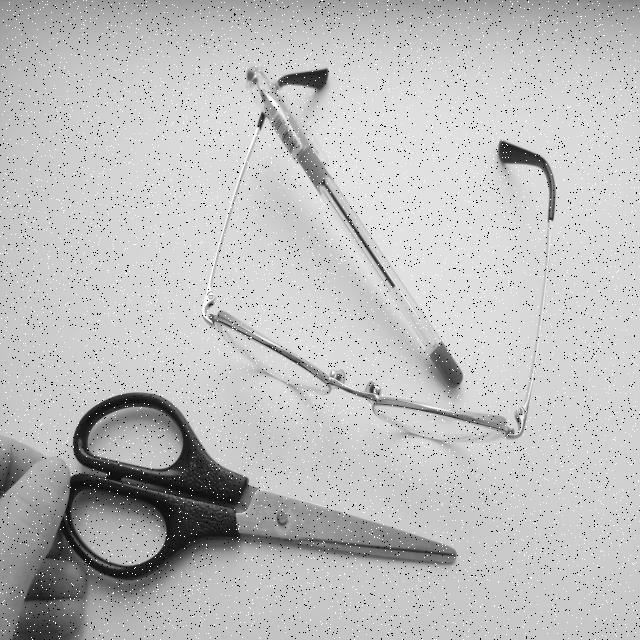scissors: (45, 373, 486, 628)
